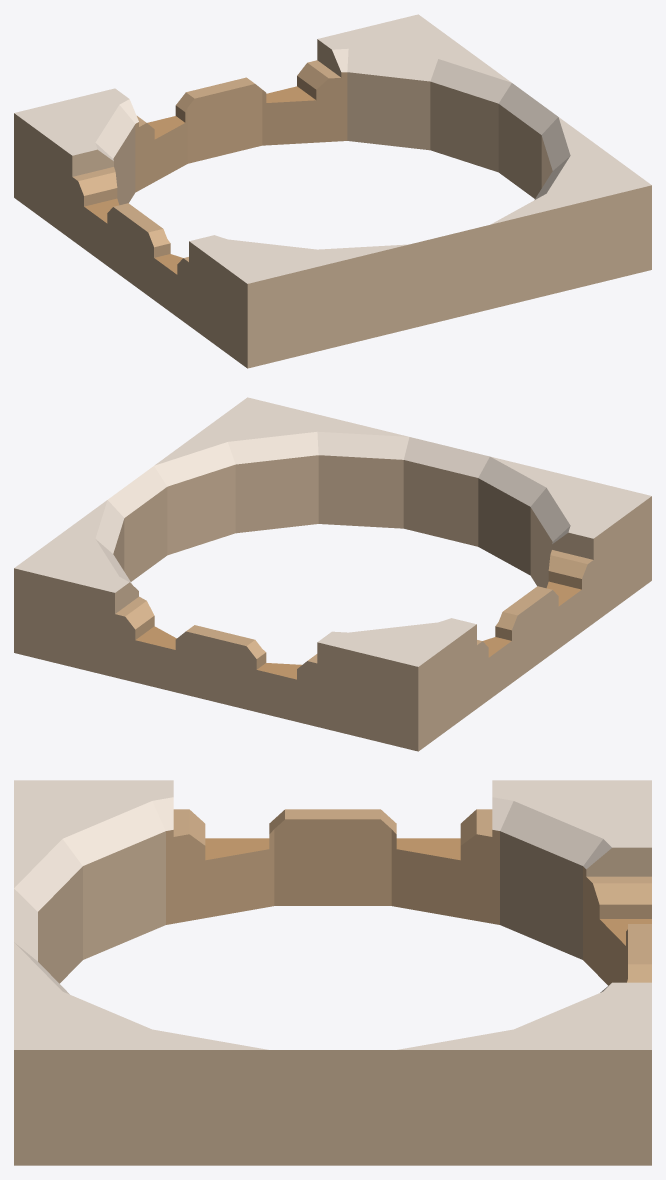
Rendered from Puzzle_Track_Rotating_Housing_Corner.obj.
The picture shows the model from 3 angles, top to bottom: view 1: azimuth 30°, elevation 25°; view 2: azimuth 150°, elevation 25°; view 3: azimuth 270°, elevation 25°; orthographic projection. The views are drawn at different scales.
Parts seen in each view (by area): view 1: object1; view 2: object1; view 3: object1.
Boxes of the visible parts, x1,y1,x2,y2 form: object1: (14,14,651,368); object1: (14,397,651,751); object1: (14,780,651,1165).
Size of the model in its own units: 1 by 0.2 by 1.
